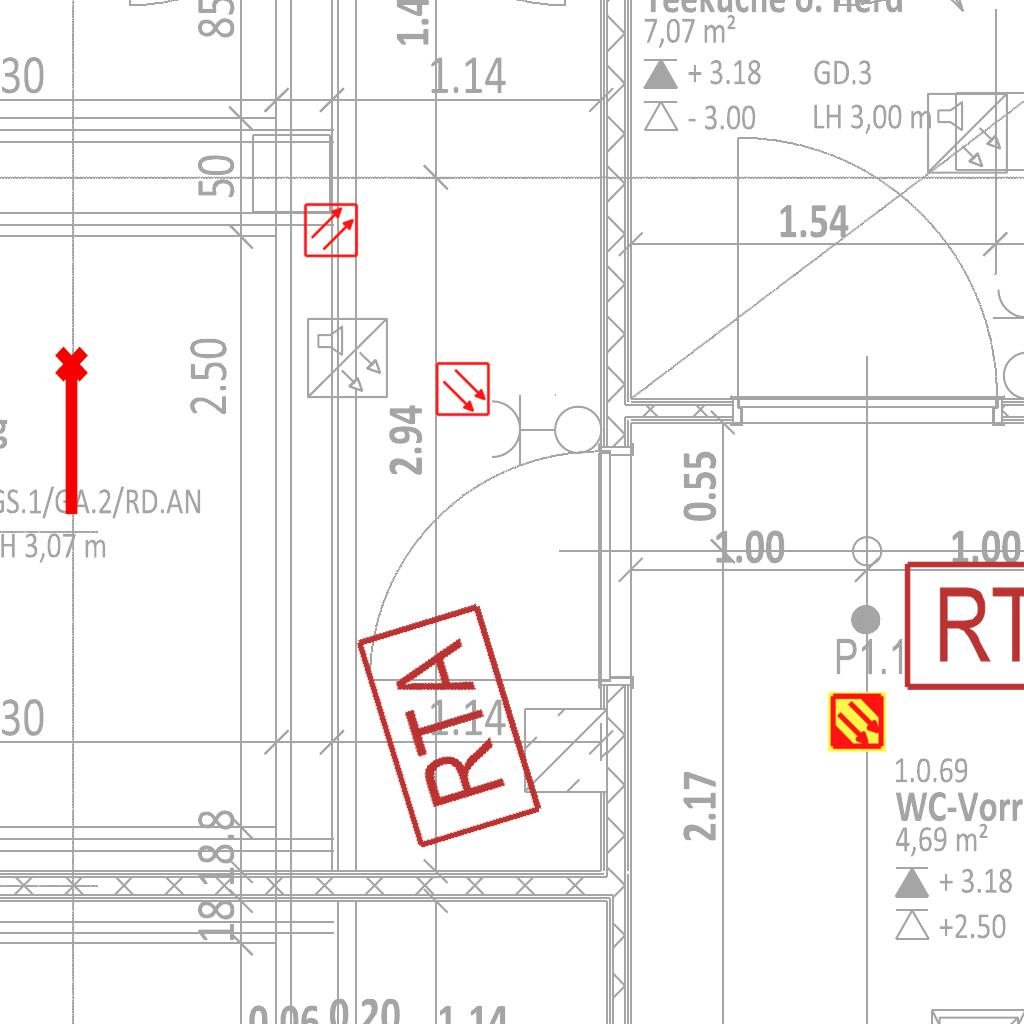ASR_Ansaugoeffnung: (51, 344, 97, 520)
ASR_Ansaugrauchmelder: (826, 691, 888, 753)
RMO_Rauchmelder_optischer: (303, 202, 359, 258), (435, 361, 491, 417)
Ruf-und_Abstelltaster: (350, 598, 550, 858), (897, 557, 1024, 695)
